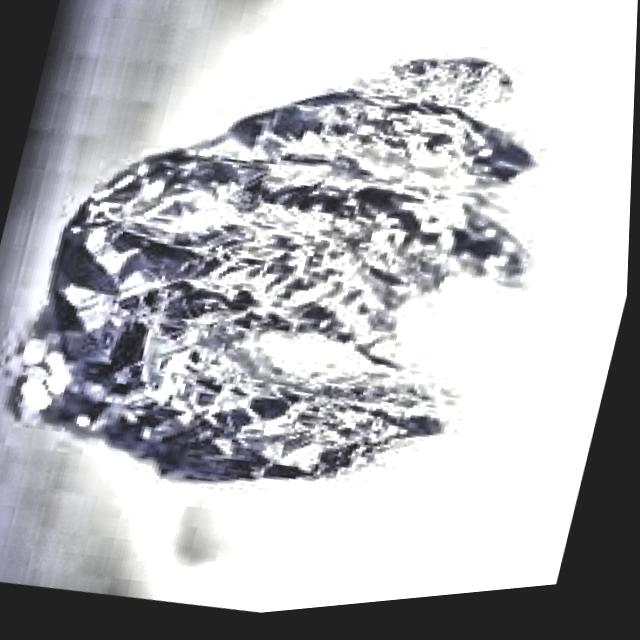Foil: (0, 0, 618, 566)
